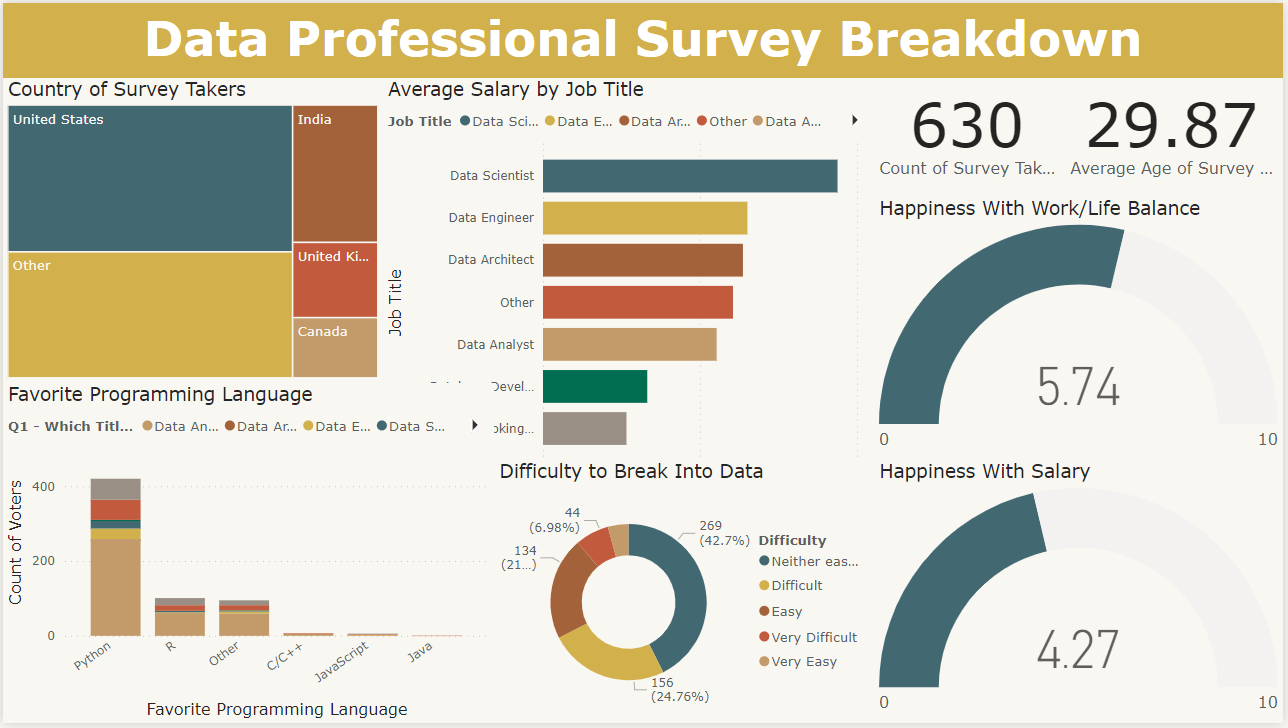

The page's visual inventory and layout, read from the dashboard file:
{"tool":"powerbi","page":{"name":"Page 1","canvas":[1280,720],"ordinal":0},"visuals":[{"type":"textbox","box":[0,0,1280,75],"z":0},{"type":"card","fields":{"Values":["CountNonNull(Data Professional Survey.Unique ID)"]},"box":[870,75,188.8,105],"z":1000},{"type":"card","fields":{"Values":["Avg(Data Professional Survey.Q10 - Current Age)"]},"box":[1057.5,75,222.5,105],"z":2000},{"type":"barChart","title":"Average Salary by Job Title","fields":{"Category":["Data Professional Survey.Q1 - Which Title Best Fits your Current Role?.1"],"Y":["Avg(Data Professional Survey.Average Salary)"],"Series":["Data Professional Survey.Q1 - Which Title Best Fits your Current Role?.1"]},"box":[380,75,491.2,428.8],"z":3000},{"type":"columnChart","title":"Favorite Programming Language","fields":{"Category":["Data Professional Survey.Q5 - Favorite Programming Language.1"],"Y":["CountNonNull(Data Professional Survey.Unique ID)"],"Series":["Data Professional Survey.Q1 - Which Title Best Fits your Current Role?.1"]},"box":[0,380,491.2,340],"z":3001},{"type":"treemap","title":"Country of Survey Takers","fields":{"Group":["Data Professional Survey.Q11 - Which Country do you live in?.1"],"Values":["CountNonNull(Data Professional Survey.Q11 - Which Country do you live in?.1)"]},"box":[0,75,380,305],"z":3002},{"type":"gauge","title":"Happiness With Work/Life Balance","fields":{"Y":["Avg(Data Professional Survey.Q6 - How Happy are you in your Current Position with the following? (Work/Life Balance))"],"MinValue":["Min(Data Professional Survey.Q6 - How Happy are you in your Current Position with the following? (Work/Life Balance))"],"MaxValue":["Max(Data Professional Survey.Q6 - How Happy are you in your Current Position with the following? (Work/Life Balance))1"]},"box":[871.2,193.8,408.8,262.5],"z":3003},{"type":"gauge","title":"Happiness With Salary","fields":{"Y":["Avg(Data Professional Survey.Q6 - How Happy are you in your Current Position with the following? (Salary))"],"MinValue":["Min(Data Professional Survey.Q6 - How Happy are you in your Current Position with the following? (Salary))"],"MaxValue":["Max(Data Professional Survey.Q6 - How Happy are you in your Current Position with the following? (Salary))"]},"box":[871.2,456.2,408.8,263.8],"z":3004},{"type":"donutChart","title":"Difficulty to Break Into Data","fields":{"Category":["Data Professional Survey.Q7 - How difficult was it for you to break into Data?"],"Y":["CountNonNull(Data Professional Survey.Q7 - How difficult was it for you to break into Data?)"]},"box":[491.2,456.2,380,263.8],"z":3005}]}

Visuals, with their boxes in screenshot pixels (x1, y1, x2, y2), scaled from the page's 1280x720 canvas onto the 1288x728 screenshot:
textbox: crop(0, 0, 1287, 76)
card - CountNonNull(Data Professional Survey.Unique ID): crop(875, 76, 1065, 182)
card - Avg(Data Professional Survey.Q10 - Current Age): crop(1064, 76, 1287, 182)
"Average Salary by Job Title" barChart: crop(382, 76, 877, 509)
"Favorite Programming Language" columnChart: crop(0, 384, 494, 727)
"Country of Survey Takers" treemap: crop(0, 76, 382, 384)
"Happiness With Work/Life Balance" gauge: crop(877, 196, 1287, 461)
"Happiness With Salary" gauge: crop(877, 461, 1287, 727)
"Difficulty to Break Into Data" donutChart: crop(494, 461, 877, 727)
